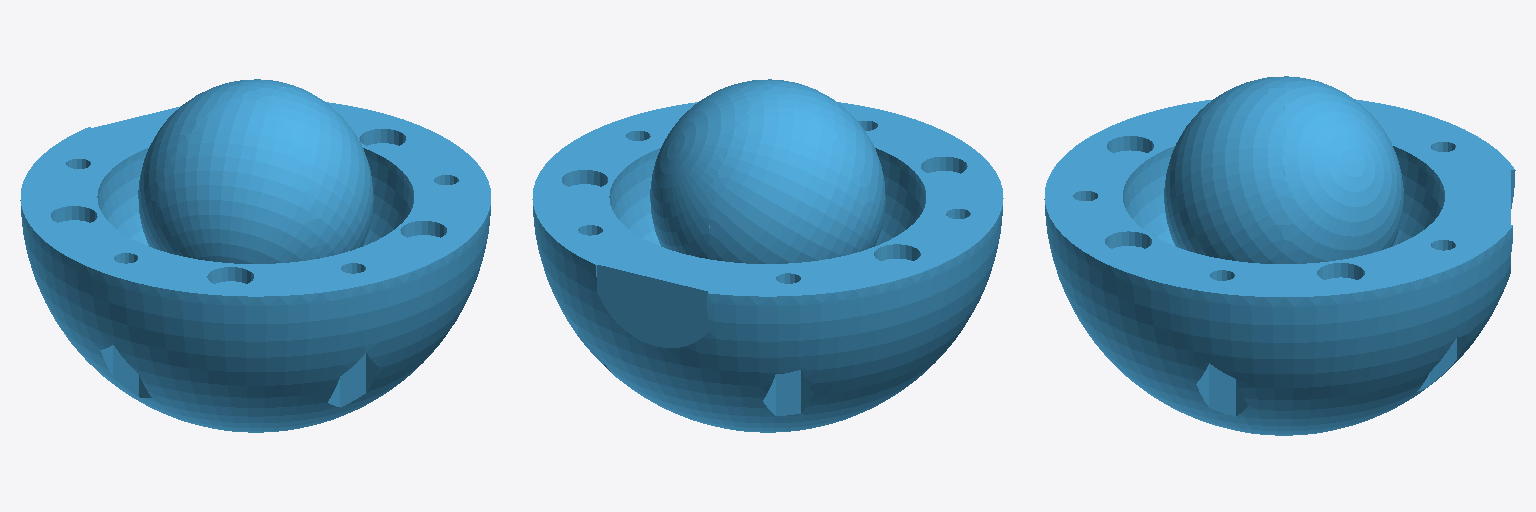
robot.urdf — head_testbed:
<robot name="head_testbed">
  <joint name="head_axis0" type="revolute">
    <parent link="base" />
    <child link="head_link1" />
    <origin rpy="0  0  0" xyz="0     0     0.026" />
    <axis xyz="1  0  0" />
    <limit effort="0.0" lower="-3.14159265359" upper="3.14159265359" velocity="0.0" />
  </joint>
  <joint name="head_axis1" type="revolute">
    <parent link="head_link1" />
    <child link="head_link2" />
    <origin rpy="0  0  0" xyz="0  0  0" />
    <axis xyz="0  1  0" />
    <limit effort="0.0" lower="-3.14159265359" upper="3.14159265359" velocity="0.0" />
  </joint>
  <joint name="head_axis2" type="revolute">
    <parent link="head_link2" />
    <child link="head" />
    <origin rpy="0  0  0" xyz="0  0  0" />
    <axis xyz="0  0  1" />
    <limit effort="0.0" lower="-3.14159265359" upper="3.14159265359" velocity="0.0" />
  </joint>
  <link name="head">
    <inertial>
      <mass value="2.6664081866441176" />
      <origin rpy="0  0  0" xyz="2.00000000e-05  -1.62000000e-03   1.67720000e-01" />
      <inertia ixx="0.13857408469680862" ixy="1.9616737535562442e-05" ixz="-3.920317094358494e-05" iyy="0.13933836843914202" iyz="-0.002684152071919728" izz="0.03361440293738789" />
    </inertial>
    <collision name="head_collision">
      <origin rpy="0  0  0" xyz="2.00000000e-05  -1.62000000e-03   1.67720000e-01" />
      <geometry>
        <mesh filename="package://robots/head_testbed/meshes/collisions/head.stl" scale="0.001 0.001 0.001" />
      </geometry>
    </collision>
    <visual name="head_visual">
      <origin rpy="0  0  0" xyz="2.00000000e-05  -1.62000000e-03   1.67720000e-01" />
      <geometry>
        <mesh filename="package://robots/head_testbed/meshes/visuals/head.stl" scale="0.001 0.001 0.001" />
      </geometry>
    </visual>
  </link>
  <link name="base">
    <inertial>
      <mass value="6.996626773526851" />
      <origin rpy="0  0  0" xyz="-0.0006   0.00237 -0.05182" />
      <inertia ixx="0.02900957380282074" ixy="-1.2359125747757903e-06" ixz="-0.00024807236774458875" iyy="0.0388014394340287" iyz="0.0009804440070563959" izz="0.015022912894190108" />
    </inertial>
    <collision name="base_collision">
      <origin rpy="0  0  0" xyz="-0.0006   0.00237 -0.05182" />
      <geometry>
        <mesh filename="package://robots/head_testbed/meshes/collisions/base.stl" scale="0.001 0.001 0.001" />
      </geometry>
    </collision>
    <visual name="base_visual">
      <origin rpy="0  0  0" xyz="-0.0006   0.00237 -0.05182" />
      <geometry>
        <mesh filename="package://robots/head_testbed/meshes/visuals/base.stl" scale="0.001 0.001 0.001" />
      </geometry>
    </visual>
  </link>
  <link name="head_link1">
    <inertial>
      <mass value="0.03806502884740436" />
      <origin rpy="0  0  0" xyz="0  0  0" />
      <inertia ixx="2.741062727301597e-05" ixy="1.9515639104739082e-22" ixz="-2.2551405187698495e-21" iyy="2.741062727301597e-05" iyz="8.673617379884036e-23" izz="1.6786677721705307e-06" />
    </inertial>
    <collision name="head_link1_collision">
      <origin rpy="0  0  0" xyz="0  0  0" />
      <geometry>
        <mesh filename="package://robots/head_testbed/meshes/collisions/head_link1.stl" scale="0.001 0.001 0.001" />
      </geometry>
    </collision>
    <visual name="head_link1_visual">
      <origin rpy="0  0  0" xyz="0  0  0" />
      <geometry>
        <mesh filename="package://robots/head_testbed/meshes/visuals/head_link1.stl" scale="0.001 0.001 0.001" />
      </geometry>
    </visual>
  </link>
  <link name="head_link2">
    <inertial>
      <mass value="0.0029963725331776064" />
      <origin rpy="0  0  0" xyz="0  0  0" />
      <inertia ixx="2.0498184499468094e-06" ixy="8.851426536171665e-24" ixz="-6.618143533199126e-23" iyy="2.0498184499468085e-06" iyz="2.656295322589486e-22" izz="2.4270617518738147e-08" />
    </inertial>
    <collision name="head_link2_collision">
      <origin rpy="0  0  0" xyz="0  0  0" />
      <geometry>
        <mesh filename="package://robots/head_testbed/meshes/collisions/head_link2.stl" scale="0.001 0.001 0.001" />
      </geometry>
    </collision>
    <visual name="head_link2_visual">
      <origin rpy="0  0  0" xyz="0  0  0" />
      <geometry>
        <mesh filename="package://robots/head_testbed/meshes/visuals/head_link2.stl" scale="0.001 0.001 0.001" />
      </geometry>
    </visual>
  </link>
</robot>

--- Render facts (derived) ---
3 views of the same robot in one strip: view 1: azimuth 30°, elevation 25°; view 2: azimuth 150°, elevation 25°; view 3: azimuth 270°, elevation 25° (orthographic).
Robot: head_testbed — 4 links, 3 joints (3 revolute); root link base; default pose: every joint at zero.
Visible links, largest first — view 1: base; view 2: base; view 3: base.
Link boxes in pixels (left/top/right/bottom): base: left=20, top=79, right=490, bottom=432; base: left=532, top=79, right=1003, bottom=432; base: left=1044, top=76, right=1515, bottom=435.
Size in the robot's own frame: 0.06 by 0.059 by 0.045 metres.
1 mesh visuals loaded from 4 distinct referenced files (1 binary STL); not drawn: 3 (reference not matched to a file when rendering).